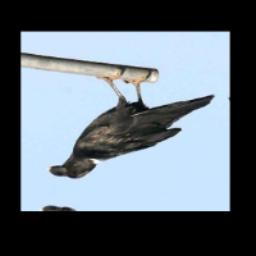Crow: (46, 60, 218, 197)
